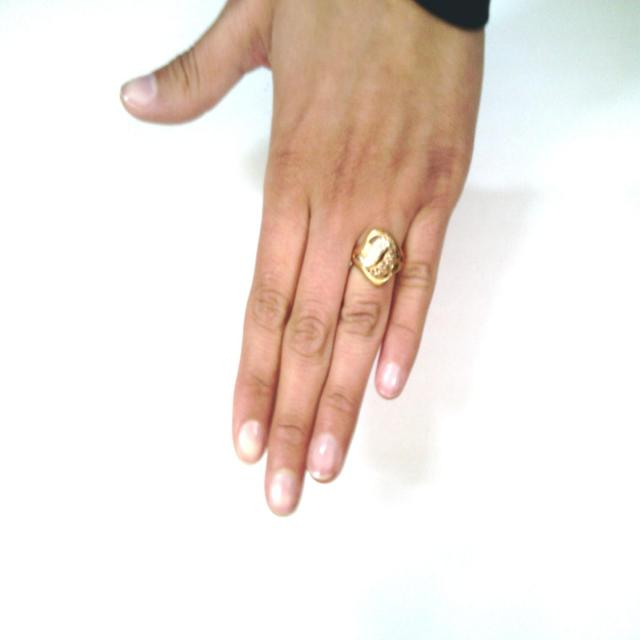others: (110, 1, 520, 520)
